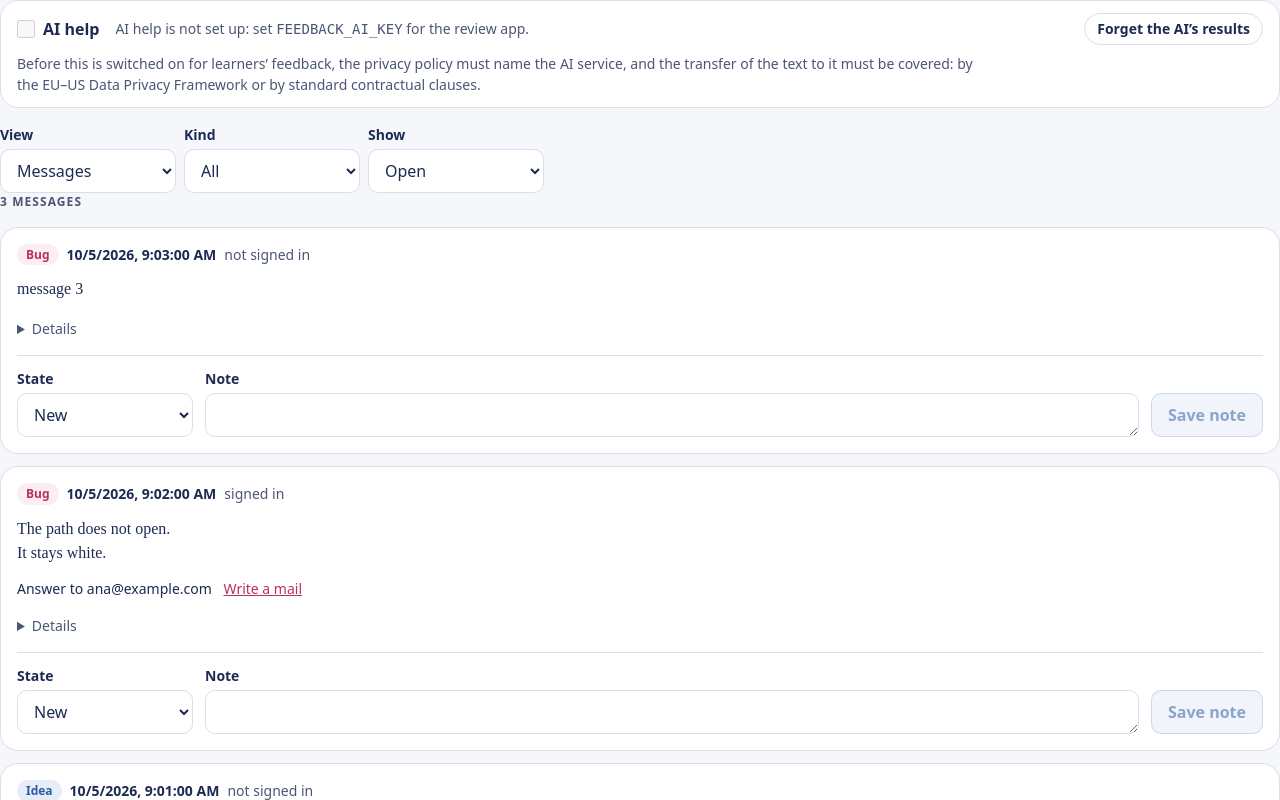
Test: AdminFeedback › takes a message out of the list when its new state is one the filter does not show, and Undo puts it back where it was (issue 260)
Select "Done" in the dropdown labelled "State" below "Answer to": (105, 712) [17,690,193,734]
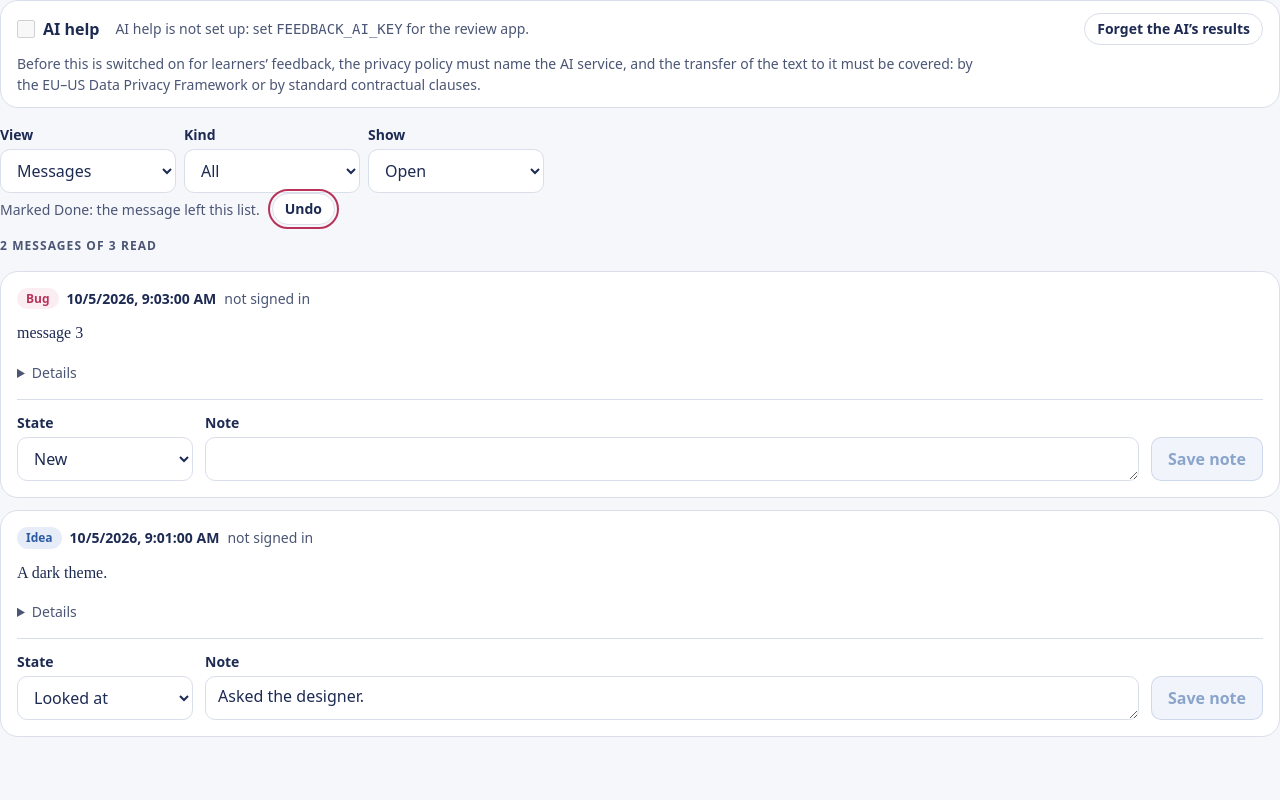
Check: the number of list items is 2, box [0,271,1279,498]; [0,510,1279,737]
Check: the text "The path does not open" is gone
Check: the text "2 messages of 3 read" is shown, box [0,237,157,254]
Click the button "Undo": (303, 209) [272,193,335,225]
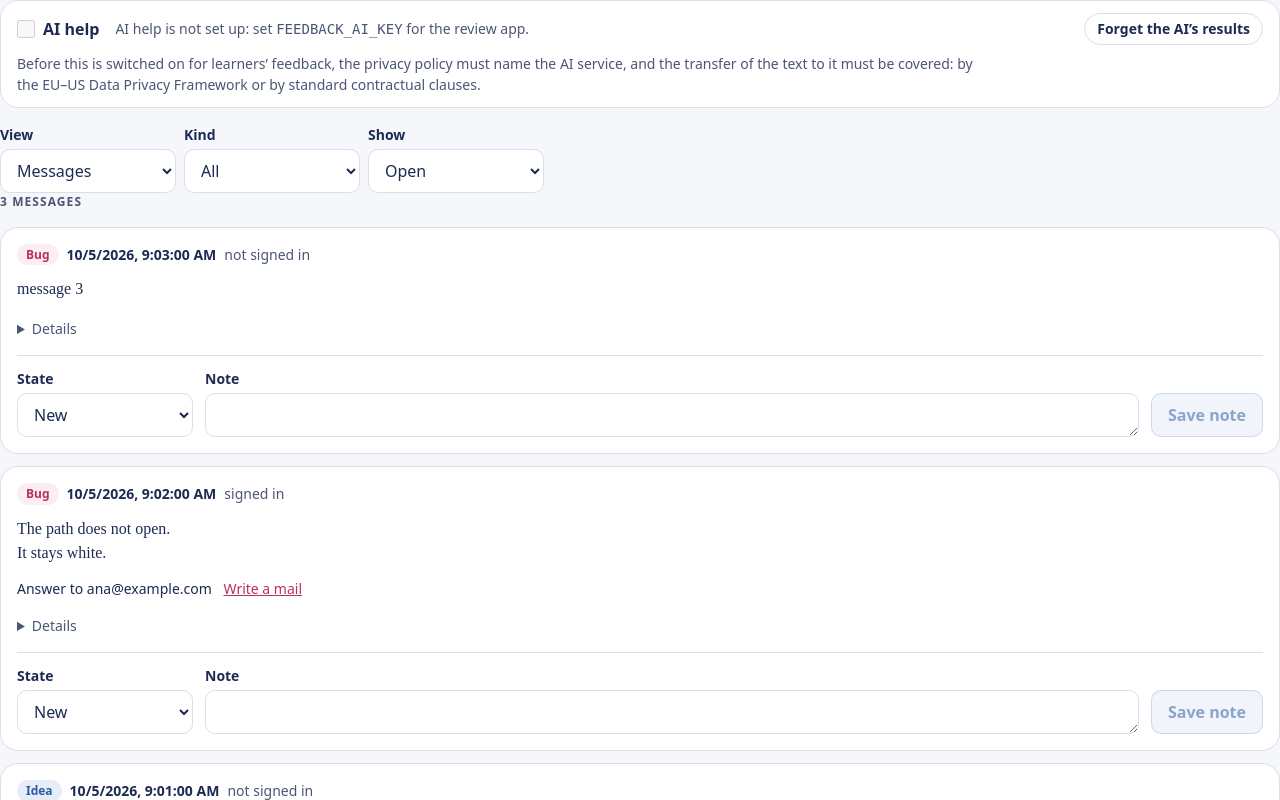
Check: the text "The path does not open. It stays white." is shown, box [17,520,170,561]
Check: the dropdown labelled "State" below "Answer to" shows "New", box [17,690,193,734]
Check: the button "Undo" is gone
